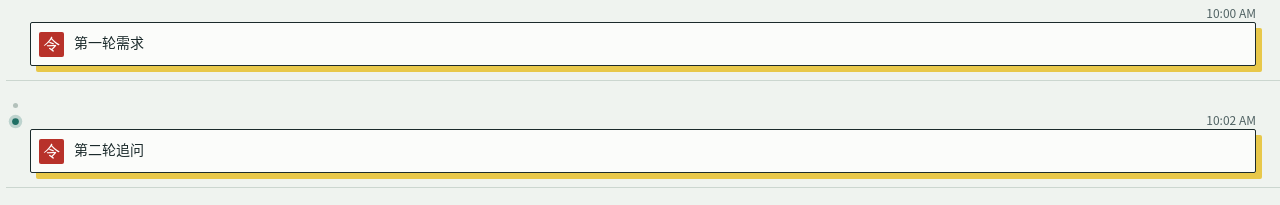
Scenario: Transcript component (P1-15 & P1-13) › renders left-edge turn rail navigator for multi-turn sessions and scrolls to clicked turn
This screenshot has width=1280, height=205.
Hover over the button named "跳到第 1 轮：第一轮需求" at [15, 105], box [7, 98, 23, 112]
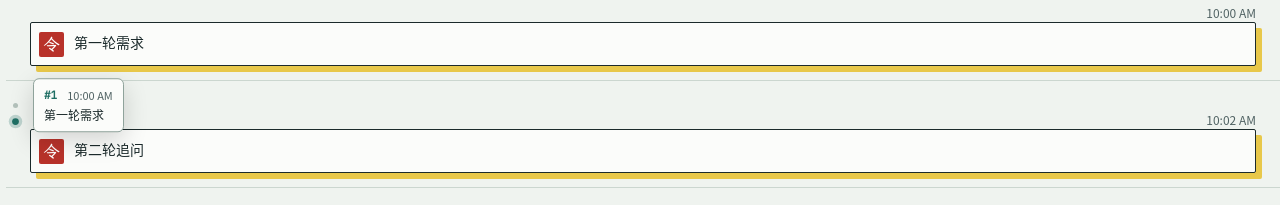
expect the tooltip shows "第一轮需求": met, box [44, 106, 104, 123]
Click the button named "跳到第 1 轮：第一轮需求". click: [15, 105]
box: [7, 98, 23, 112]
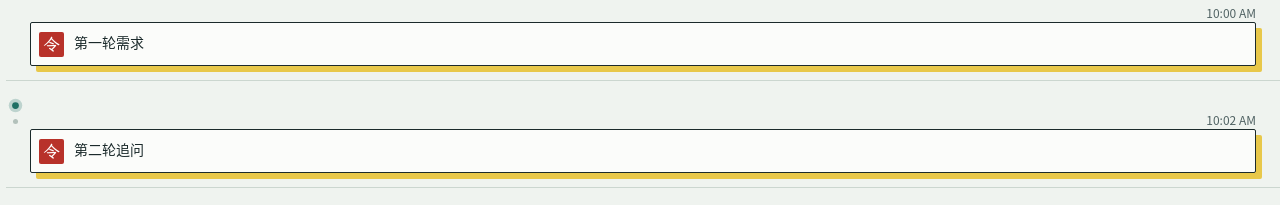
expect the button named "跳到第 1 轮：第一轮需求" has attribute aria-current="location": met, box [7, 98, 23, 112]
